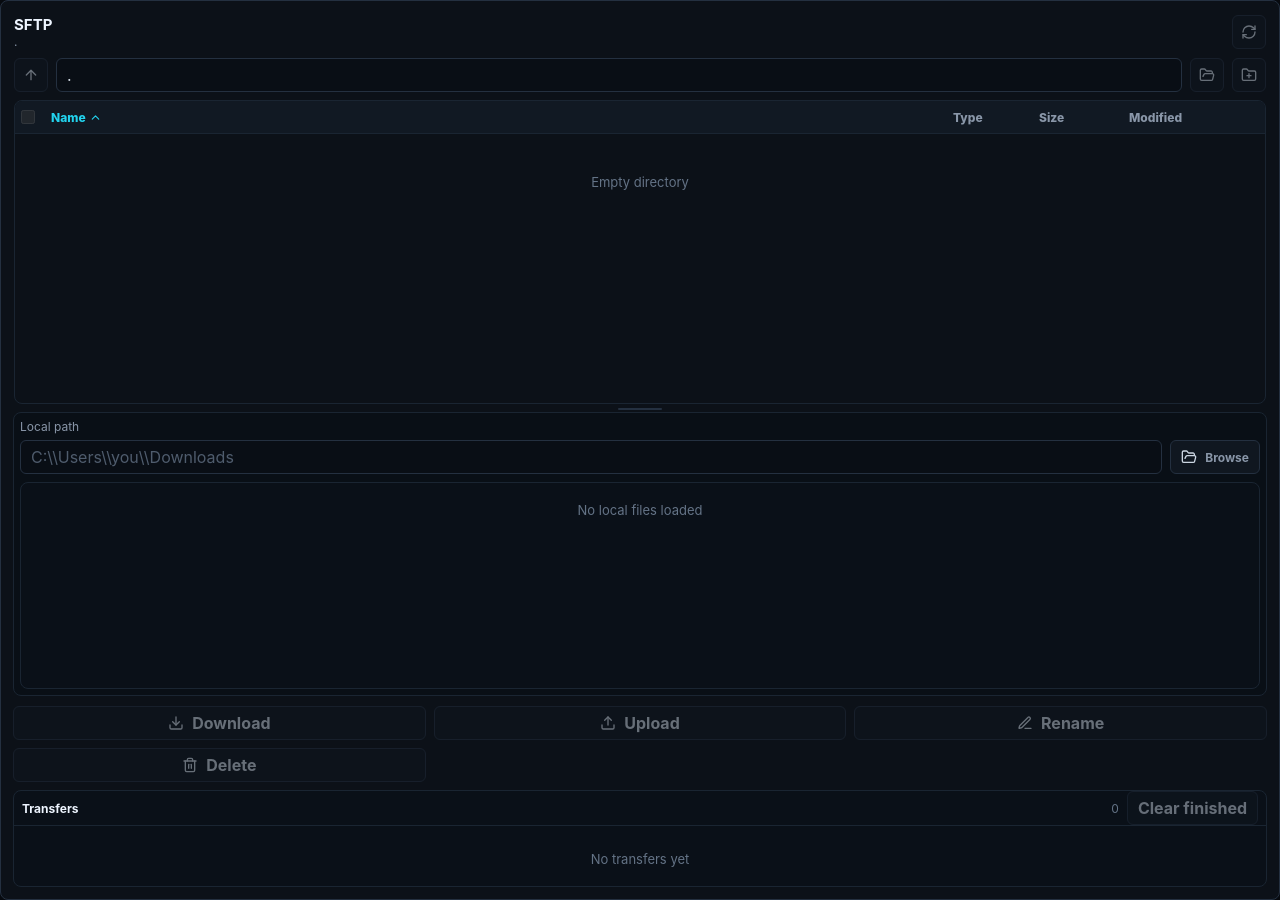
Test: SftpBrowser local path browse › updates local path after selecting a folder
Click the button "Browse": (1215, 457) [1170,440,1260,474]
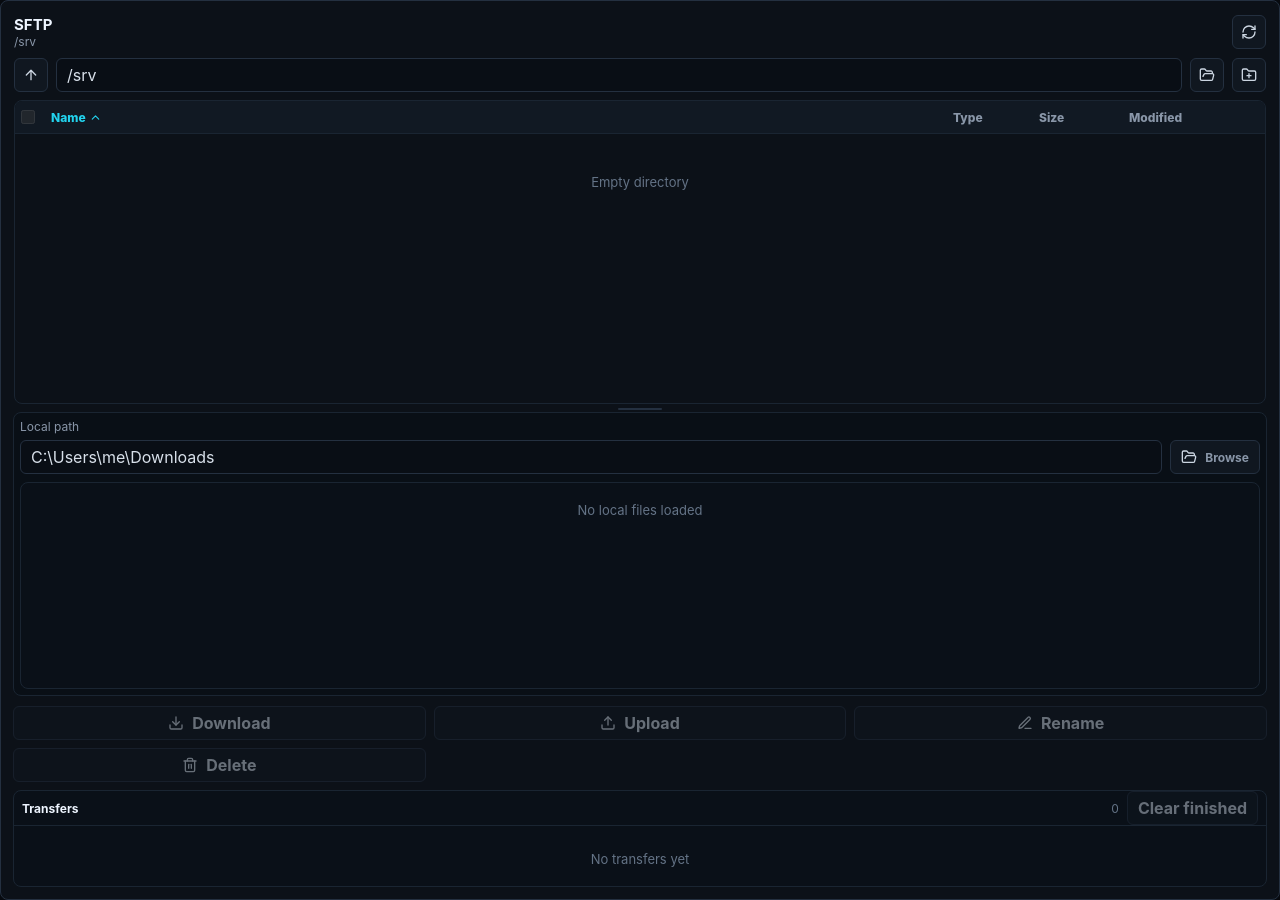
Expected: the field labelled "Local path Browse" holds "C:\\Users\\me\\Downloads", [20,440,1162,474]
